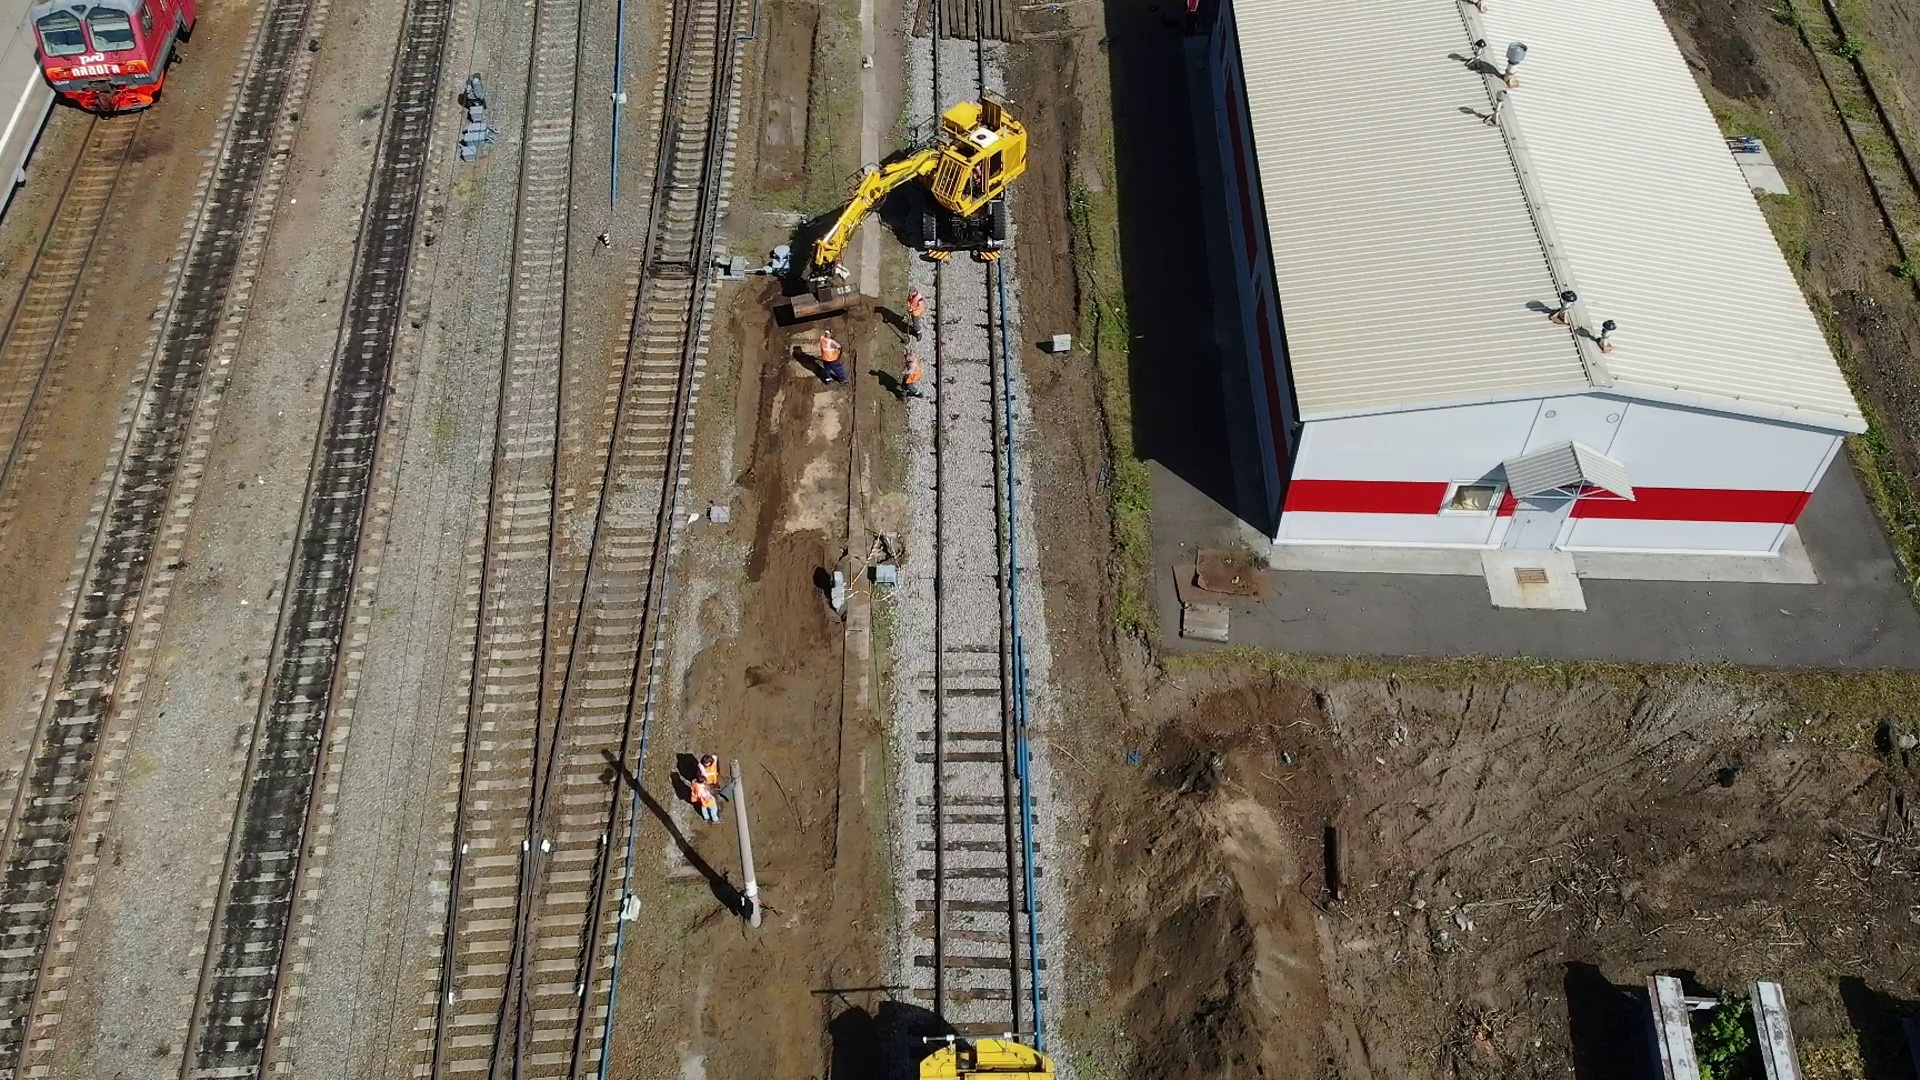kjtv: (911, 109, 1031, 261)
